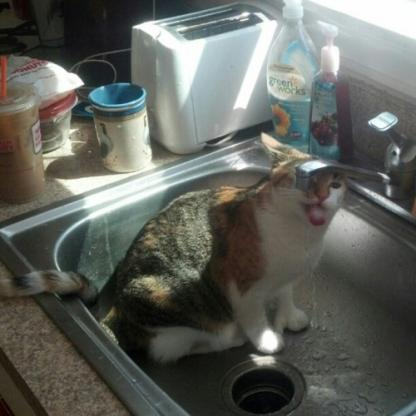Target: (0, 151, 353, 367)
